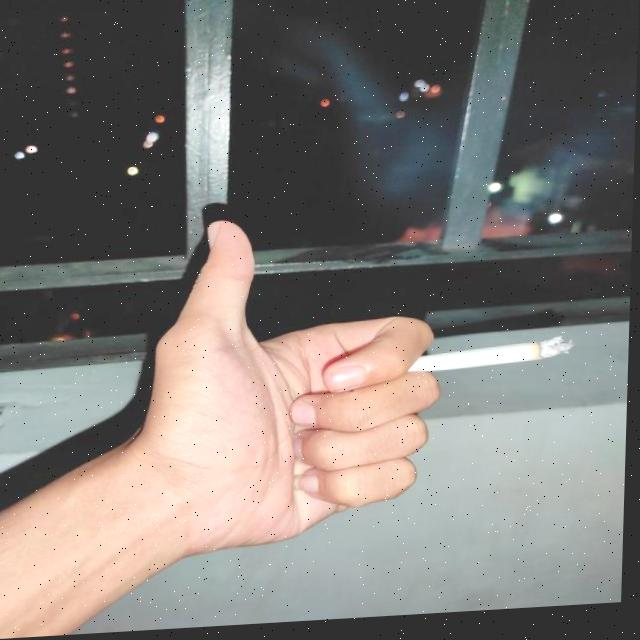cigarette: (407, 344, 577, 380)
